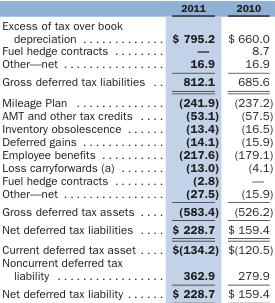table: (1, 0, 272, 300)
table column: (1, 0, 157, 300), (157, 0, 222, 300), (222, 0, 272, 300)
table column header: (1, 0, 272, 15)
table row: (1, 255, 272, 284), (1, 15, 272, 43), (1, 219, 272, 239), (1, 72, 272, 91), (1, 201, 272, 219), (1, 91, 272, 108), (1, 56, 272, 72), (1, 239, 272, 255), (1, 284, 272, 300), (1, 0, 272, 15), (1, 186, 272, 201), (1, 43, 272, 56), (1, 108, 272, 121), (1, 121, 272, 134), (1, 134, 272, 147), (1, 147, 272, 160), (1, 160, 272, 173), (1, 173, 272, 186)
